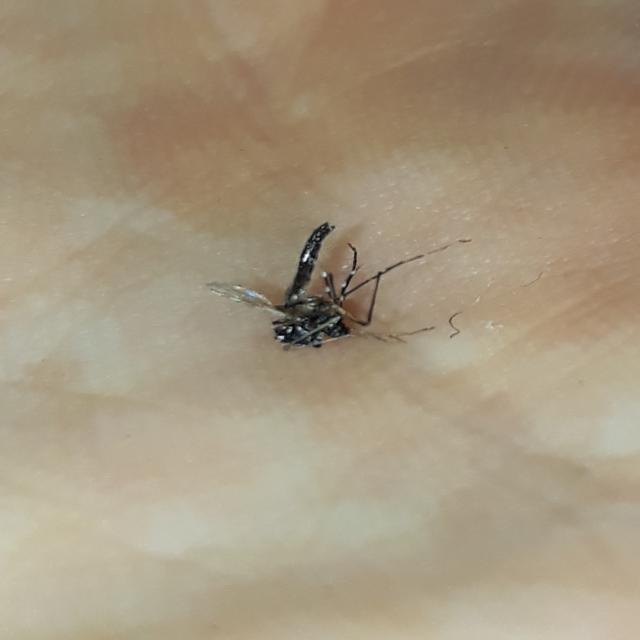albopictus: (201, 208, 475, 356)
